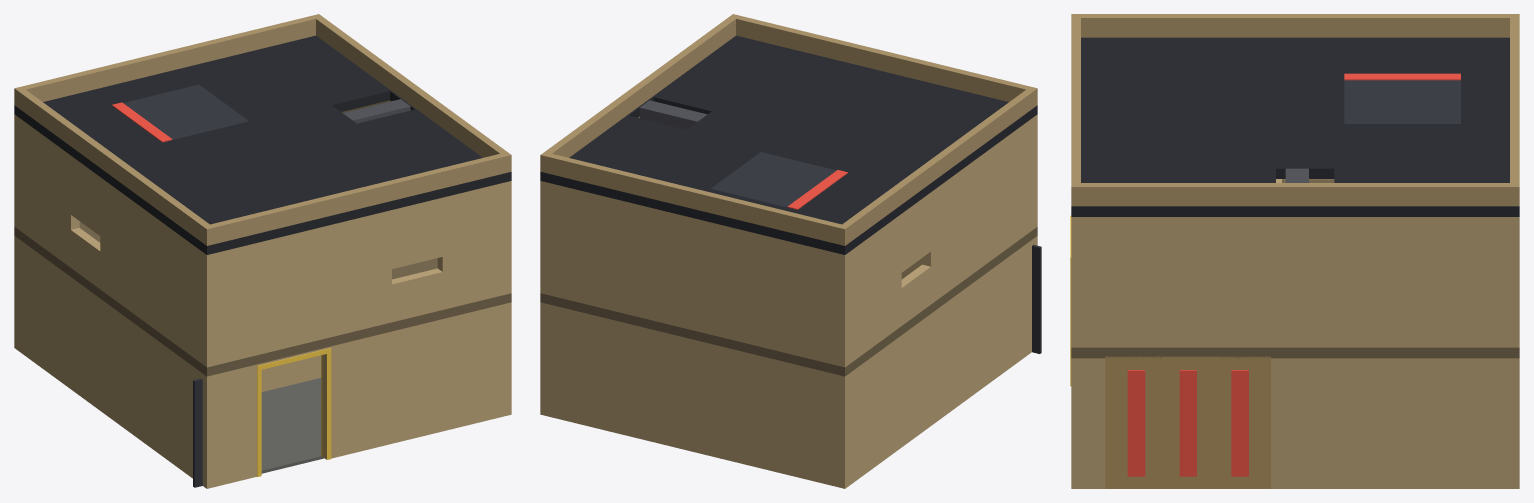
The model's file is lab.glb.
3 renders of one model, left to right at view 1: azimuth 30°, elevation 25°; view 2: azimuth 150°, elevation 25°; view 3: azimuth 270°, elevation 25°, orthographic. The views are drawn at different scales.
Visible parts, largest first — view 1: shell_l1, shell_l0, roof_structural, roof_parapet, floor_l1, floor_l0, breakable_roof_weak_panel, trim_l0, breakable_front_door_leaf, stair, breakable_roof_weak_panel_mark; view 2: shell_l1, shell_l0, roof_structural, roof_parapet, floor_l1, breakable_roof_weak_panel, stair, breakable_front_door_leaf, breakable_roof_weak_panel_mark; view 3: roof_structural, shell_l1, shell_l0, roof_parapet, breakable_breach_panel, breakable_breach_panel_stripe, floor_l1, breakable_roof_weak_panel, breakable_roof_weak_panel_mark.
Part boxes in pixels (x1,y1,x2,y2): shell_l1: [14, 100, 511, 367]; shell_l0: [14, 236, 511, 488]; roof_structural: [14, 35, 511, 254]; roof_parapet: [14, 14, 511, 245]; floor_l1: [14, 221, 511, 376]; floor_l0: [261, 378, 324, 473]; breakable_roof_weak_panel: [123, 84, 248, 139]; trim_l0: [257, 348, 331, 476]; breakable_front_door_leaf: [193, 378, 202, 487]; stair: [343, 99, 410, 123]; breakable_roof_weak_panel_mark: [112, 102, 172, 142]; shell_l1: [540, 114, 1037, 367]; shell_l0: [540, 236, 1037, 488]; roof_structural: [540, 35, 1037, 254]; roof_parapet: [540, 14, 1037, 245]; floor_l1: [540, 227, 1037, 376]; breakable_roof_weak_panel: [711, 152, 836, 207]; stair: [639, 100, 707, 129]; breakable_front_door_leaf: [1032, 244, 1041, 353]; breakable_roof_weak_panel_mark: [787, 170, 847, 209]; roof_structural: [1071, 37, 1519, 216]; shell_l1: [1071, 179, 1519, 347]; shell_l0: [1071, 358, 1519, 488]; roof_parapet: [1071, 14, 1519, 206]; breakable_breach_panel: [1105, 356, 1270, 488]; breakable_breach_panel_stripe: [1127, 370, 1248, 476]; floor_l1: [1071, 179, 1519, 358]; breakable_roof_weak_panel: [1344, 80, 1460, 123]; breakable_roof_weak_panel_mark: [1344, 73, 1460, 80].
Bounding box in the file's own units: 43.32 × 34.6 × 46.1.
